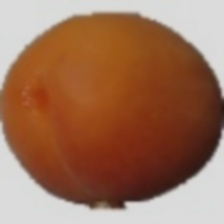apricot: (52, 25, 190, 221)
